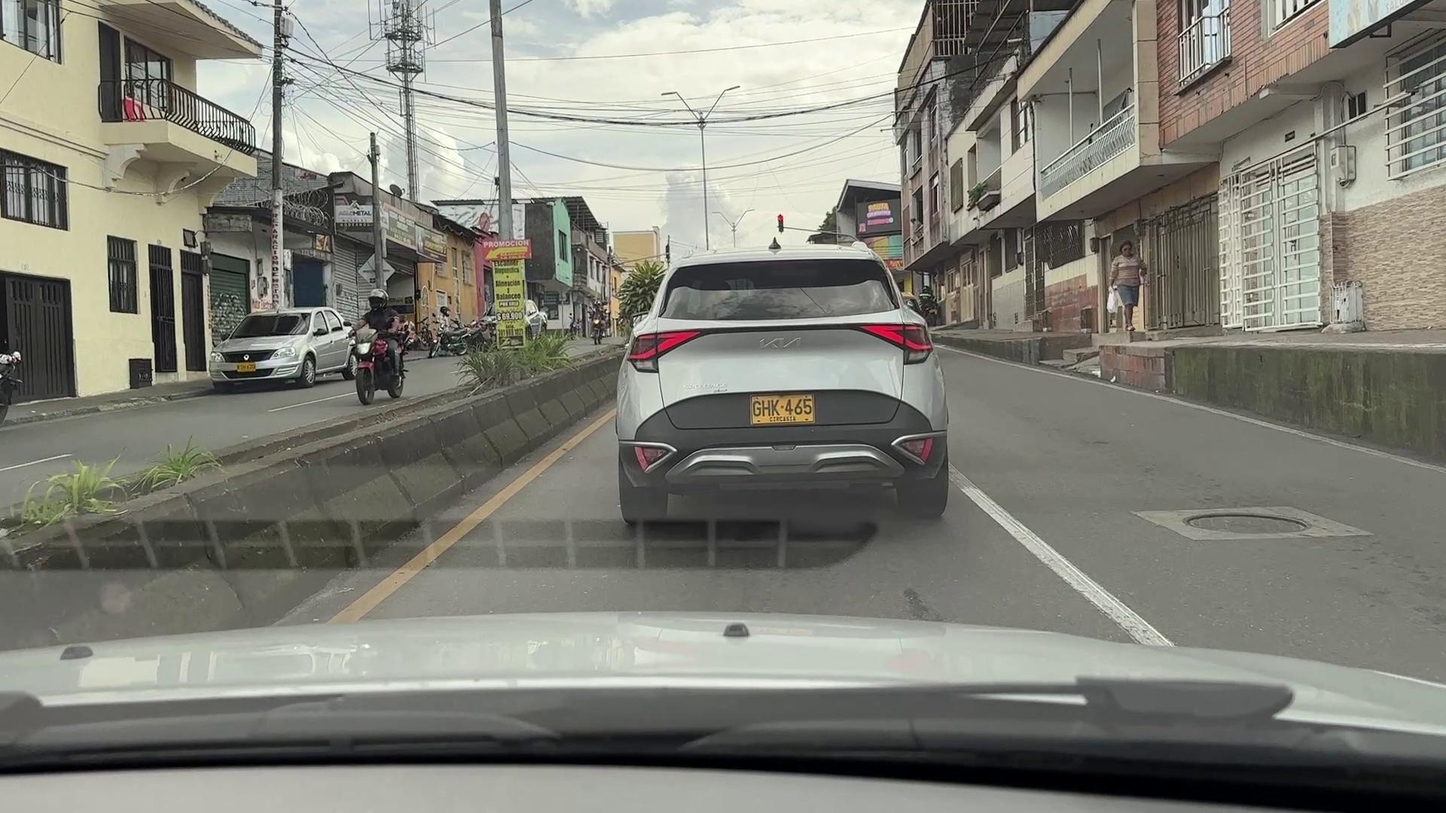registro: (1184, 512, 1311, 534)
